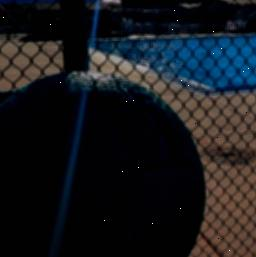algae: (0, 70, 206, 257)
